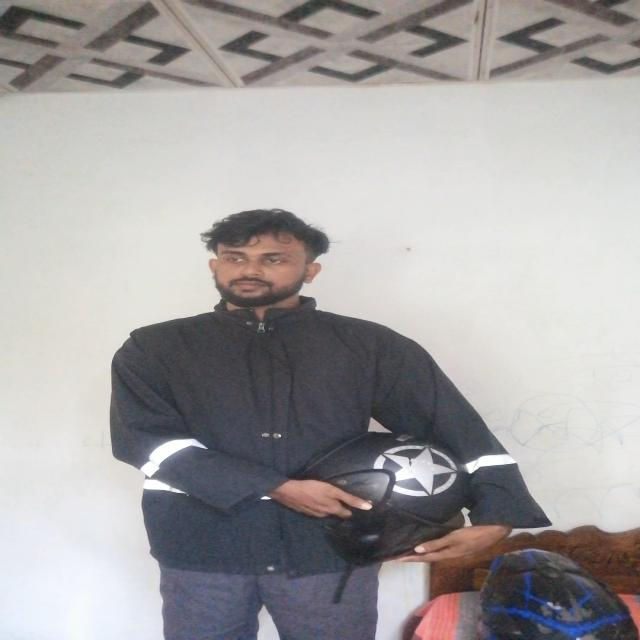Jacket_Wearer: (115, 302, 530, 568)
Person: (115, 197, 512, 640)
